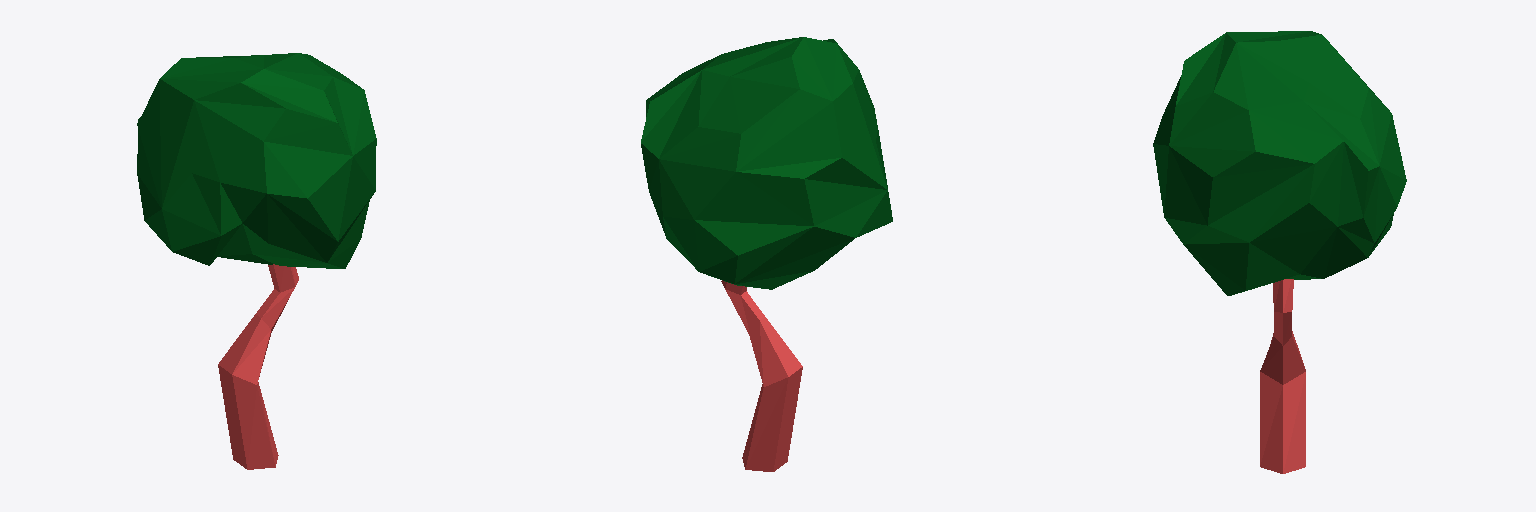
File: Tree1.obj
The picture shows the model from 3 angles: view 1: azimuth 30°, elevation 25°; view 2: azimuth 150°, elevation 25°; view 3: azimuth 270°, elevation 25°; orthographic projection.
Parts seen in each view (by area): view 1: Hedra001, Cylinder002; view 2: Hedra001, Cylinder002; view 3: Hedra001, Cylinder002.
Boxes of the visible parts, x1,y1,x2,y2 form: Hedra001: [137, 53, 376, 268]; Cylinder002: [218, 264, 298, 469]; Hedra001: [641, 37, 892, 289]; Cylinder002: [721, 280, 802, 471]; Hedra001: [1153, 31, 1406, 295]; Cylinder002: [1260, 279, 1305, 473].
Bounding box in the file's own units: 5.38 × 9.93 × 5.53.